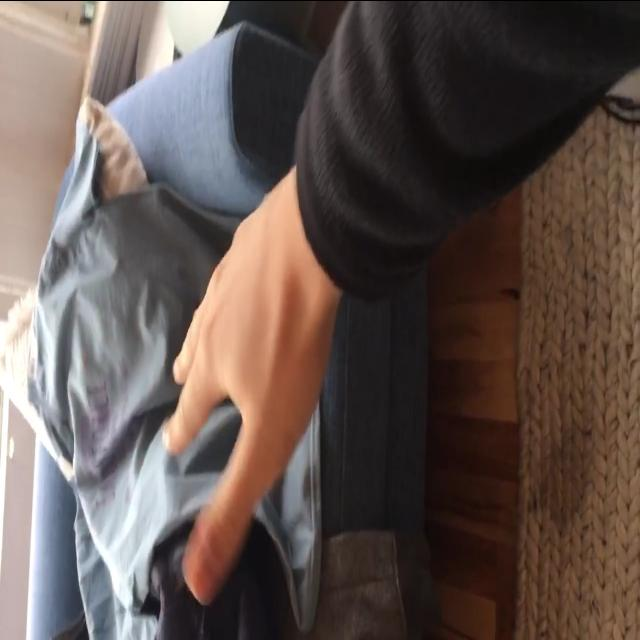Paper: (160, 182, 334, 606)
